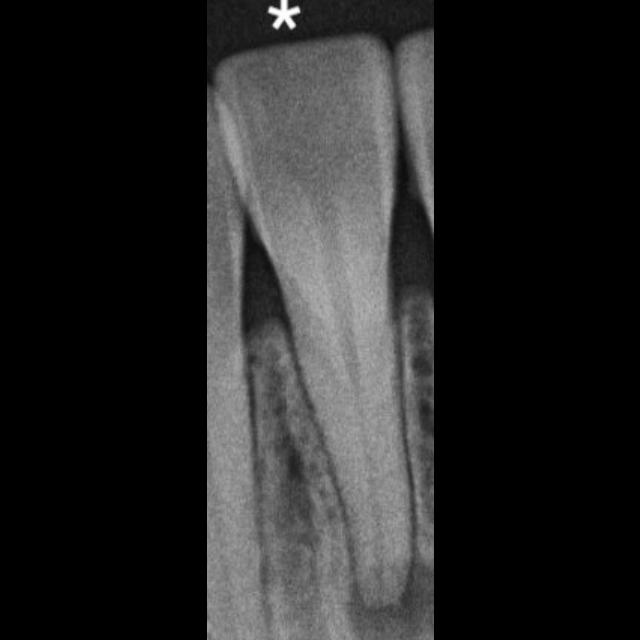tooth: (214, 33, 414, 614)
